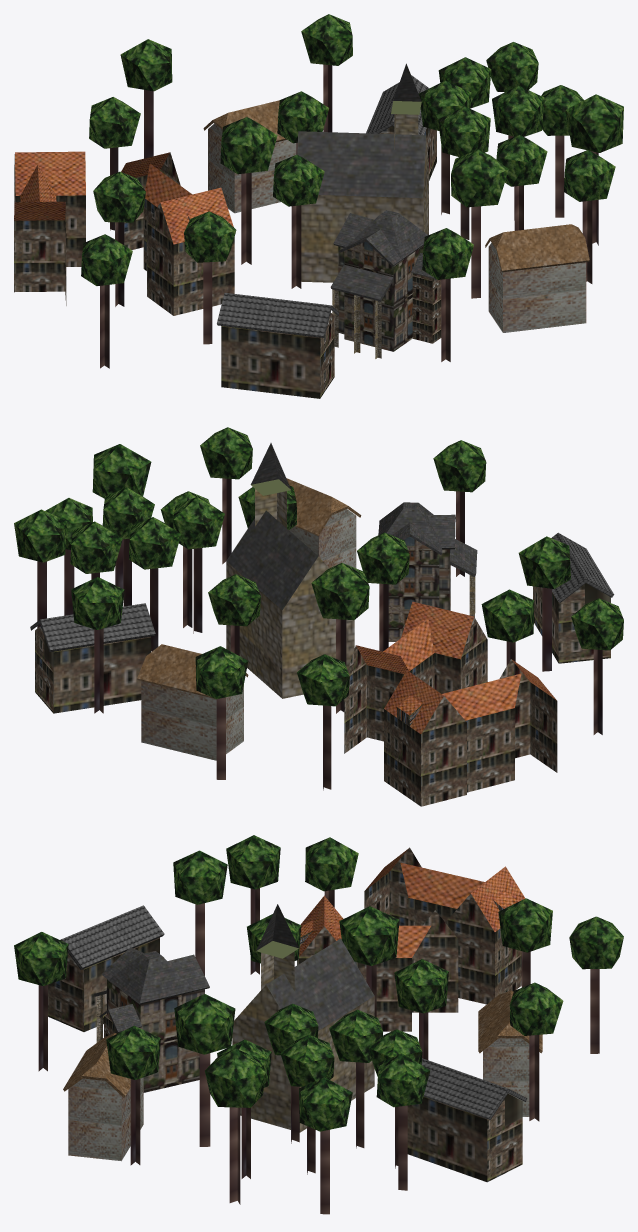
The model's file is EuropeanCity_Tier1.glb.
3 renders of one model, top to bottom at view 1: azimuth 30°, elevation 25°; view 2: azimuth 150°, elevation 25°; view 3: azimuth 270°, elevation 25°, orthographic. The views are drawn at different scales.
Visible parts, largest first — view 1: Cube.062; view 2: Cube.062; view 3: Cube.062.
Boxes of the visible parts, x1=… form: Cube.062: x1=14, y1=14, x2=623, y2=398; Cube.062: x1=14, y1=427, x2=623, y2=806; Cube.062: x1=14, y1=835, x2=623, y2=1214.
Bounding box in the file's own units: 2.63 × 1.03 × 2.51.
1 material, 1 textured.
